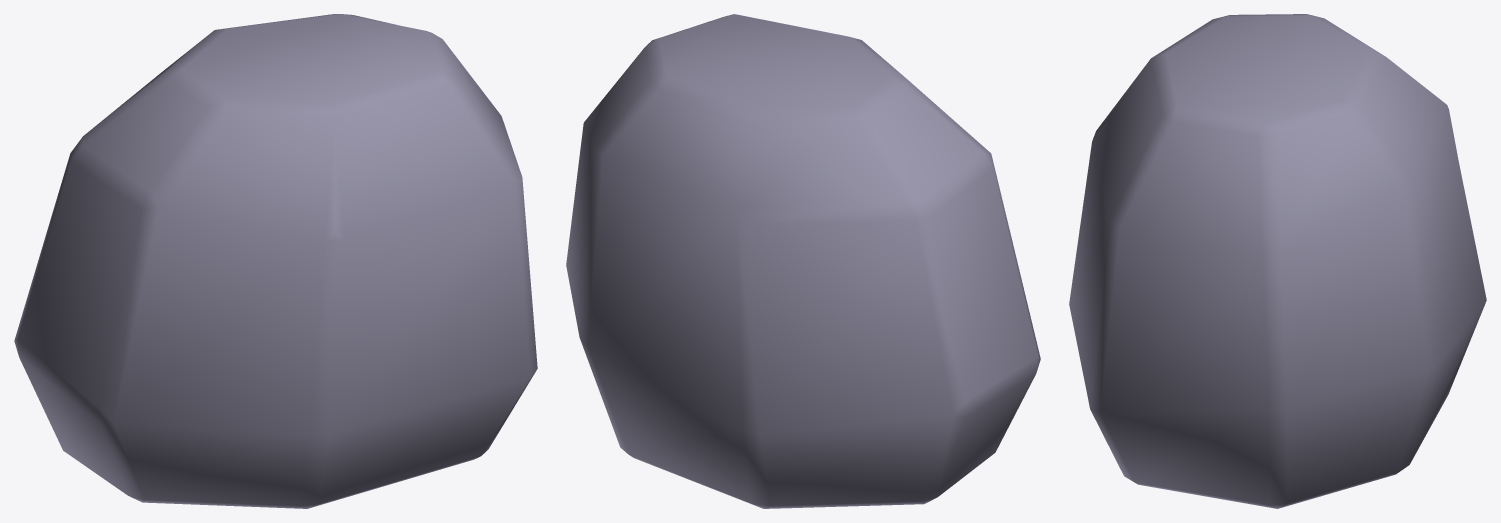
The model's file is rock_small_02.glb.
The picture shows the model from 3 angles, left to right: view 1: azimuth 30°, elevation 25°; view 2: azimuth 150°, elevation 25°; view 3: azimuth 270°, elevation 25°; orthographic projection. The views are drawn at different scales.
Visible parts, largest first — view 1: rock_small_02; view 2: rock_small_02; view 3: rock_small_02.
Boxes of the visible parts, x1,y1,x2,y2 form: rock_small_02: [14, 14, 537, 508]; rock_small_02: [566, 14, 1040, 508]; rock_small_02: [1069, 14, 1486, 508].
Size of the model in its own units: 0.3382 by 0.27 by 0.2759.
